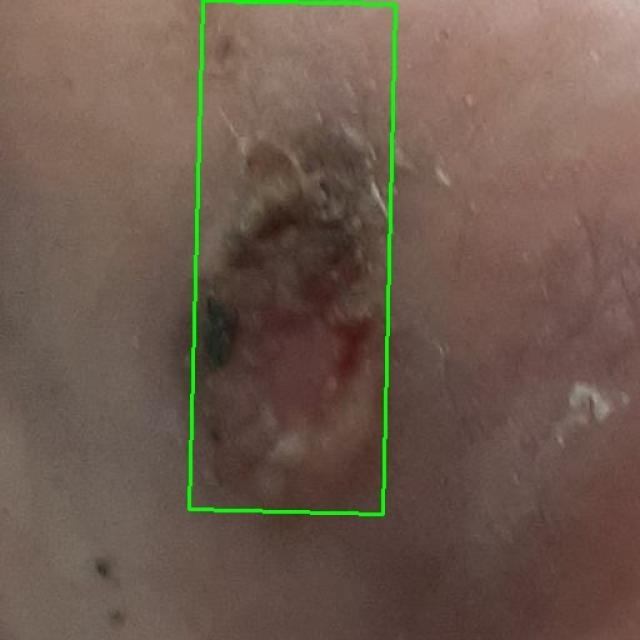Eczema: (190, 0, 396, 514)
